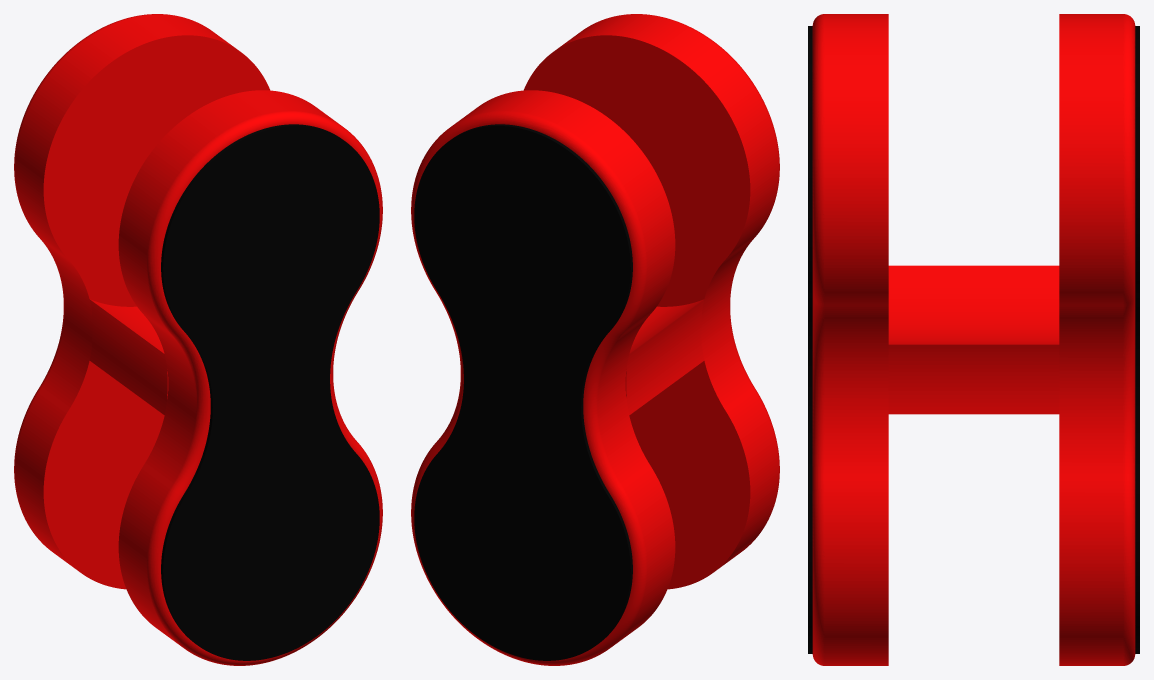
The model's file is Art2.dae.
3 views of the same model, side by side, from view 1: azimuth 30°, elevation 25°; view 2: azimuth 150°, elevation 25°; view 3: azimuth 270°, elevation 25° (orthographic). The views are drawn at different scales.
Parts seen in each view (by area): view 1: Compound004, Compound003; view 2: Compound004, Compound003; view 3: Compound004, Compound003.
Part boxes in pixels (bbox=[...]): Compound004: bbox=[14, 14, 382, 665]; Compound003: bbox=[161, 124, 379, 660]; Compound004: bbox=[411, 14, 779, 665]; Compound003: bbox=[414, 124, 632, 660]; Compound004: bbox=[812, 14, 1135, 665]; Compound003: bbox=[808, 26, 1139, 653].
Size of the model in its own units: 130 by 140 by 290.
